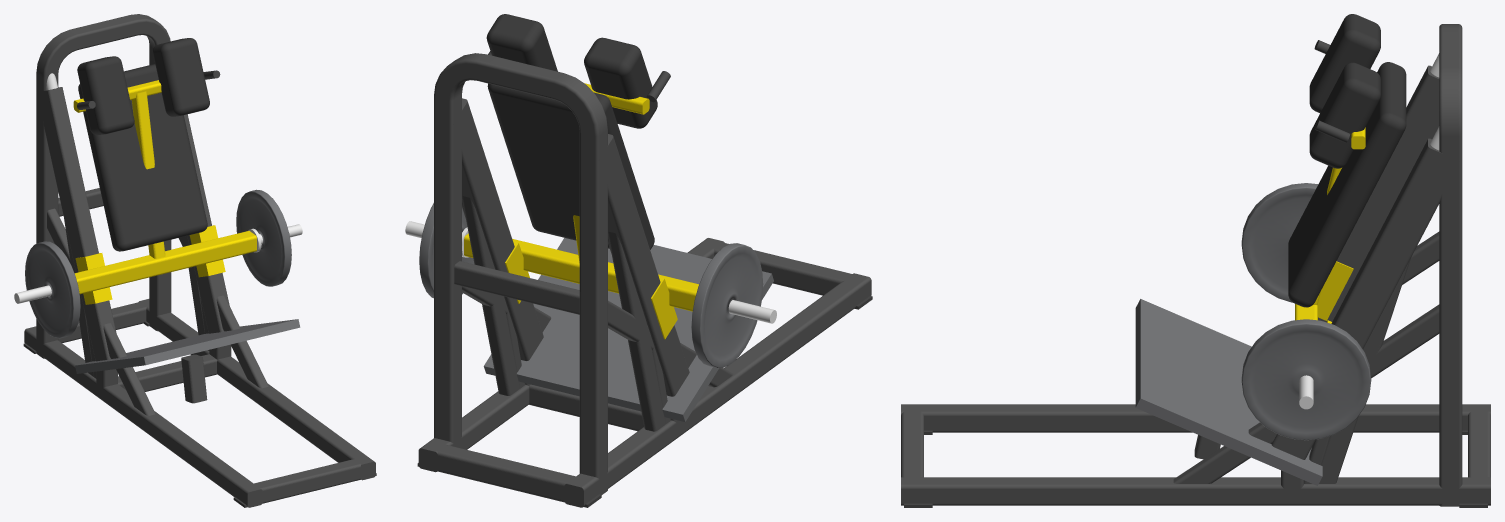
The picture shows the model from 3 angles, left to right: view 1: azimuth 30°, elevation 25°; view 2: azimuth 150°, elevation 25°; view 3: azimuth 270°, elevation 25°; orthographic projection. The views are drawn at different scales.
Parts seen in each view (by area): view 1: base, backrest_pad, carriage, rail_beam (×2), rear_arch_tube, shoulder_pad (×2), frame, carriage_beam, foot_plate, carriage_slider (×2), plate_horn; view 2: rear_arch_tube, base, rail_beam (×2), backrest_pad, foot_plate, frame, carriage, shoulder_pad (×2), rear_tie, carriage_beam, carriage_slider, plate_horn; view 3: base, carriage, rail_beam (×2), foot_plate, rear_arch_tube, backrest_pad, frame, shoulder_pad (×2), carriage_slider.
Part boxes in pixels (left/top/right/bottom): base: left=23, top=299, right=376, bottom=507; backrest_pad: left=78, top=64, right=207, bottom=251; carriage: left=25, top=80, right=291, bottom=338; rail_beam (×2): left=36, top=63, right=229, bottom=361; rear_arch_tube: left=36, top=14, right=171, bottom=358; shoulder_pad (×2): left=77, top=38, right=209, bottom=135; frame: left=47, top=208, right=268, bottom=415; carriage_beam: left=74, top=231, right=256, bottom=294; foot_plate: left=75, top=319, right=300, bottom=373; carriage_slider (×2): left=75, top=225, right=225, bottom=304; plate_horn: left=14, top=285, right=51, bottom=303; rear_arch_tube: left=434, top=53, right=607, bottom=494; base: left=417, top=238, right=872, bottom=507; rail_beam (×2): left=453, top=98, right=689, bottom=396; backrest_pad: left=487, top=83, right=654, bottom=249; foot_plate: left=483, top=238, right=773, bottom=421; frame: left=462, top=196, right=733, bottom=431; carriage: left=419, top=83, right=763, bottom=368; shoulder_pad (×2): left=486, top=14, right=657, bottom=128; rear_tie: left=454, top=261, right=579, bottom=314; carriage_beam: left=464, top=233, right=698, bottom=311; carriage_slider: left=651, top=277, right=677, bottom=339; plate_horn: left=728, top=300, right=776, bottom=323; base: left=901, top=404, right=1490, bottom=507; carriage: left=1241, top=127, right=1371, bottom=440; rail_beam (×2): left=1271, top=65, right=1459, bottom=459; foot_plate: left=1135, top=299, right=1322, bottom=485; rear_arch_tube: left=1439, top=24, right=1462, bottom=506; backrest_pad: left=1288, top=62, right=1406, bottom=307; frame: left=1173, top=231, right=1439, bottom=496; shoulder_pad (×2): left=1309, top=14, right=1380, bottom=168; carriage_slider: left=1318, top=261, right=1353, bottom=320.
Bounding box in the file's own units: 1.5 × 1.61 × 2.05.
